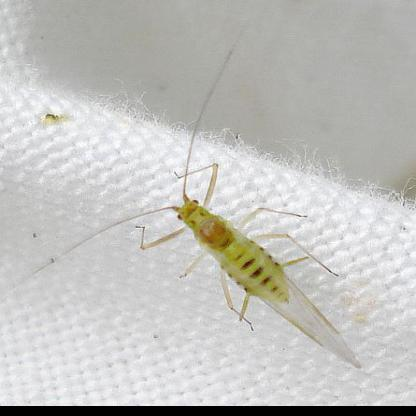aphid: (112, 132, 326, 318)
